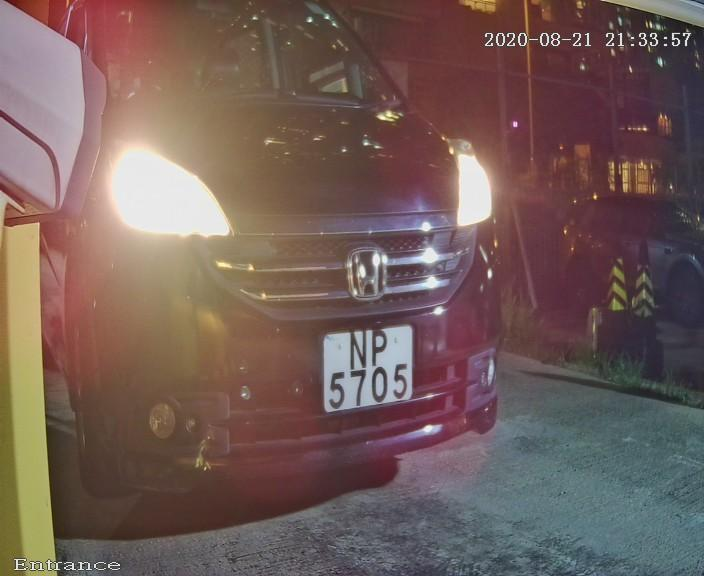Car: (4, 11, 566, 543)
License Plate: (309, 314, 425, 427)
